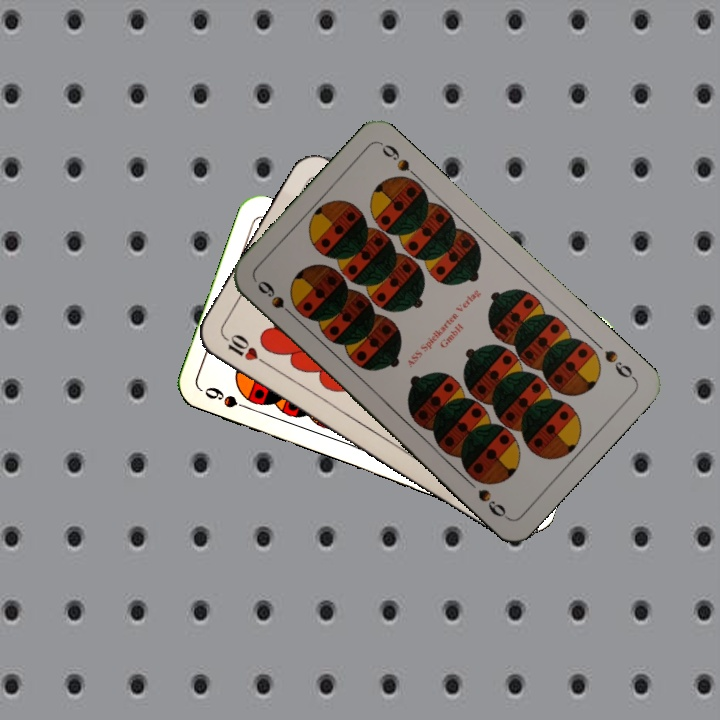H10: (218, 330, 271, 368)
S9: (253, 276, 299, 322), (200, 383, 256, 414), (600, 345, 639, 383)
